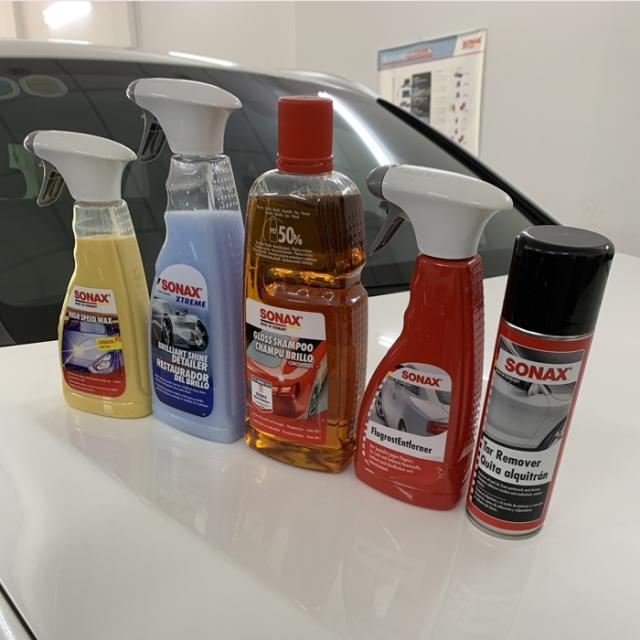winwinshield_washer: (130, 76, 242, 444), (248, 96, 352, 480), (490, 224, 619, 528), (18, 121, 147, 420), (367, 157, 467, 513)
